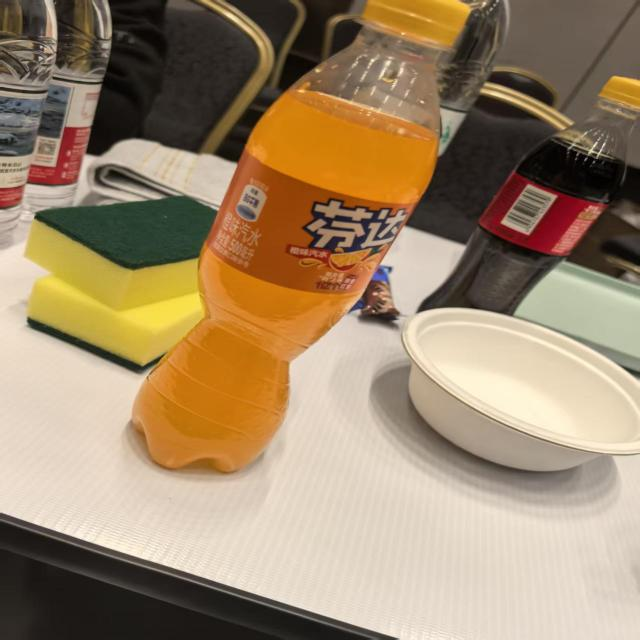orange: (287, 189, 414, 274)
